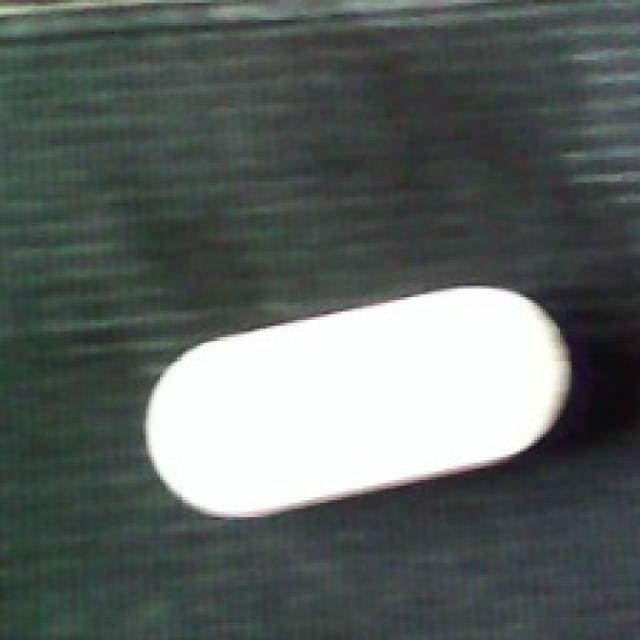no-defect: (140, 282, 577, 523)
